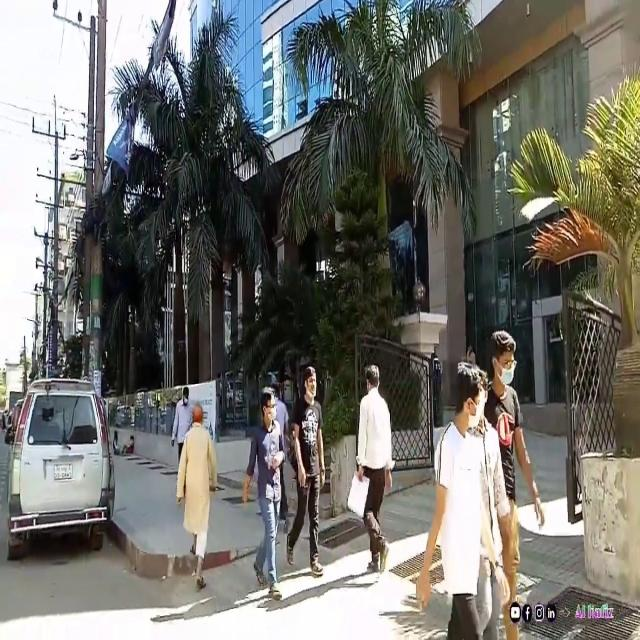silver: (10, 371, 117, 570)
